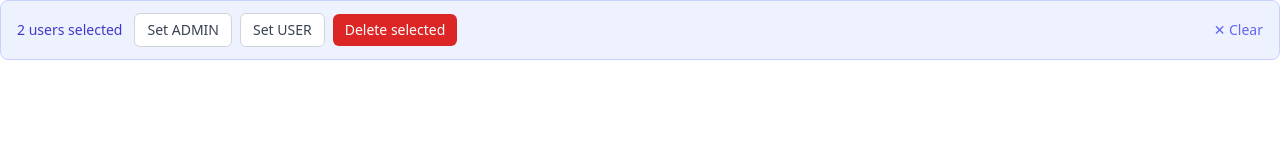
Test: UserBulkActions › shows confirmation dialog before deleting
Click the button "Delete selected": (395, 30) [333,14,457,46]
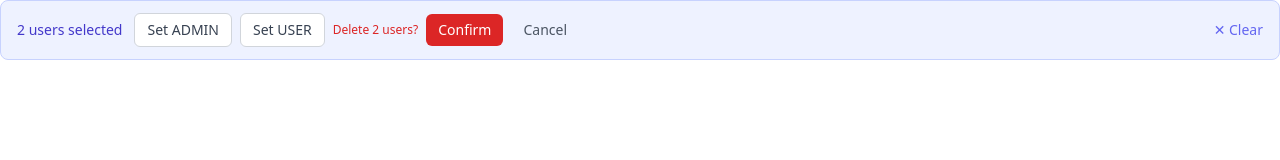
Expected: the text "Delete 2 users?" is shown, [333,22,418,38]
Expected: the button "Confirm" is shown, [426,14,504,46]
Expected: the button "Cancel" is shown, [511,14,579,46]
